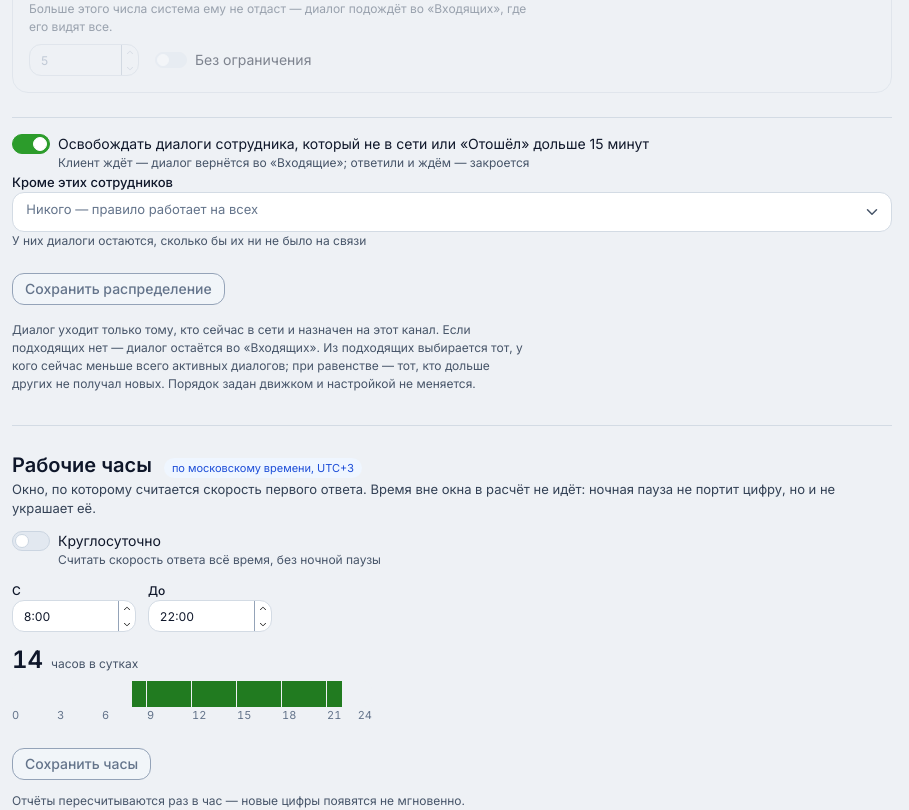
Test: Настройки распределения › часы тоже очищаются без подстановки нуля
This screenshot has width=909, height=810.
(page scrolled)
Clear the field named "Начало рабочего дня, час по Москве" at (74, 616), box 12,600 -> 136,632
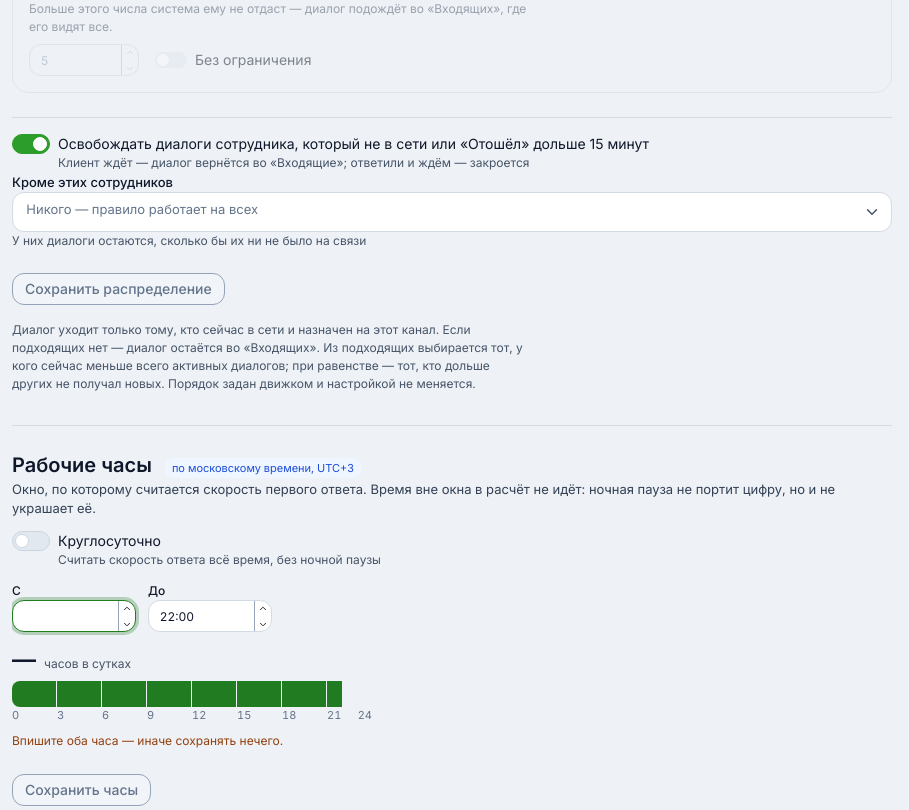
Check: the button "Сохранить часы" is disabled, box 12,774 -> 151,806
Check: the text "Впишите оба часа — иначе сохранять нечего." is shown, box 12,733 -> 283,748
Type "9" into the field named "Начало рабочего дня, час по Москве" at (74, 616), box 12,600 -> 136,632
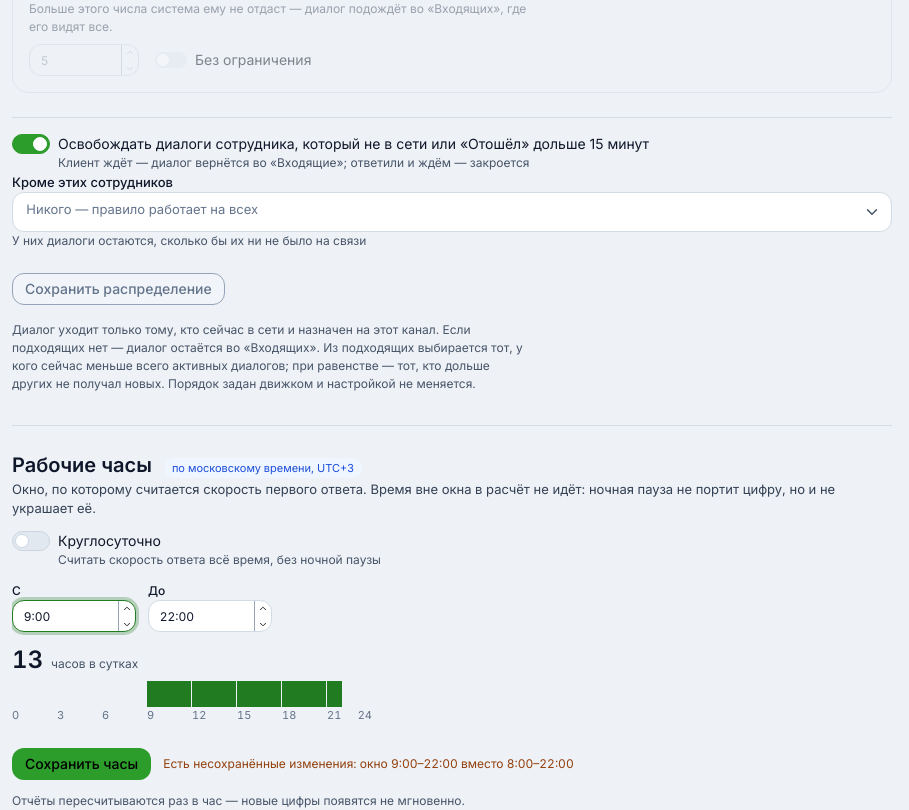
Check: the field named "Начало рабочего дня, час по Москве" holds "9:00", box 12,600 -> 136,632
